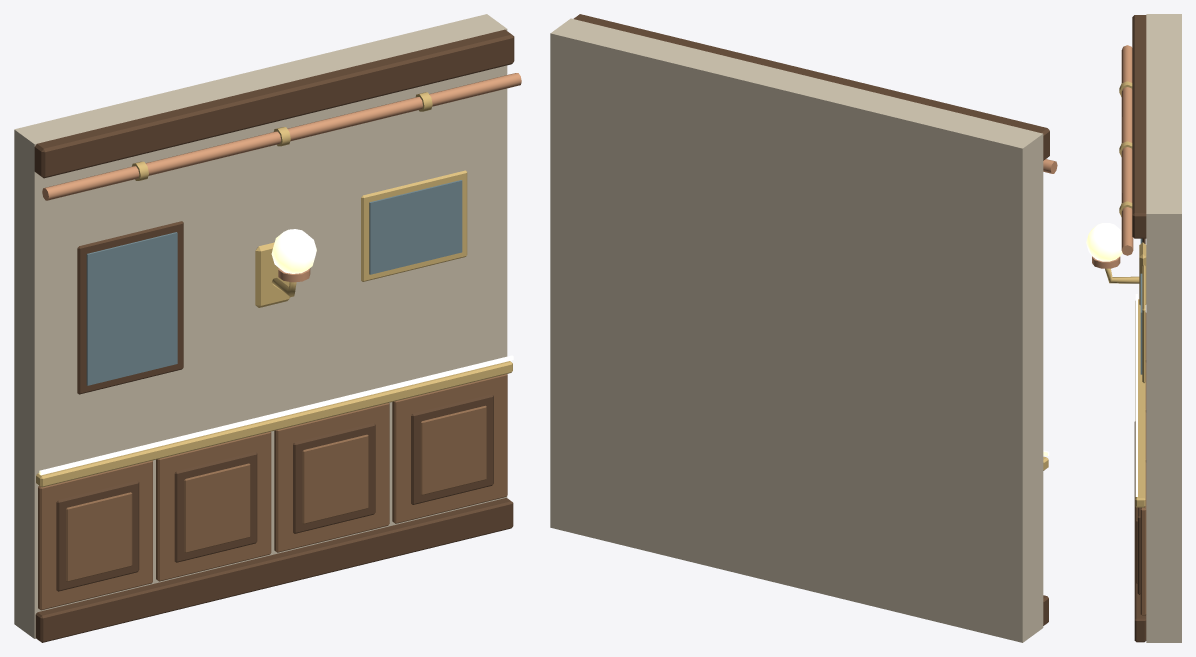
Rendered from wall_hm_lamp.glb.
The picture shows the model from 3 angles, left to right: view 1: azimuth 30°, elevation 25°; view 2: azimuth 150°, elevation 25°; view 3: azimuth 270°, elevation 25°; orthographic projection. The views are drawn at different scales.
Visible parts, largest first — view 1: wall_hm_lamp; view 2: wall_hm_lamp; view 3: wall_hm_lamp.
Part boxes in pixels (box(x1,y1,x2,y2)): wall_hm_lamp: box(14, 14, 521, 642); wall_hm_lamp: box(550, 14, 1057, 642); wall_hm_lamp: box(1086, 14, 1181, 642).
Bounding box in the file's own units: 4 × 4 × 0.81.
